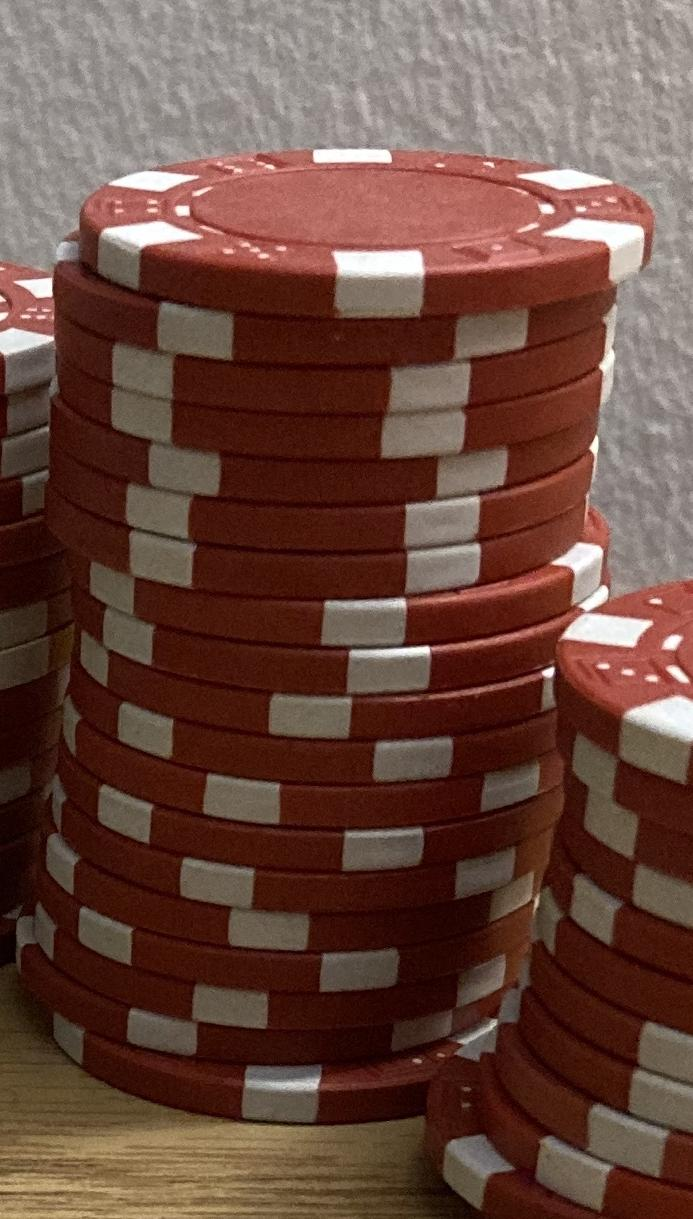Chip: (1, 1, 693, 1219)
